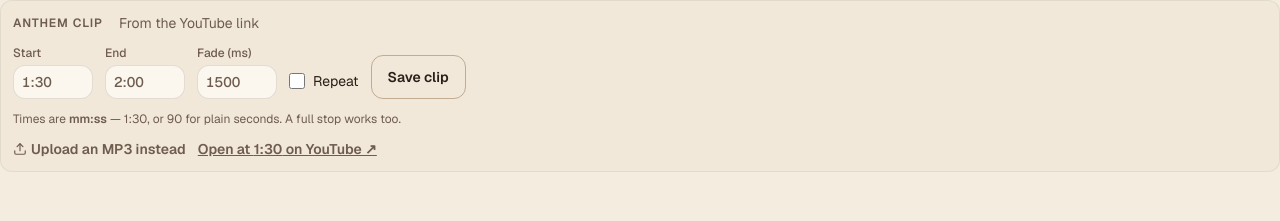
Test case: SongClipEditor › refuses an end before the start
Replace the text in the field labelled "End" with "1:00" at (145, 82), box [105,65,185,99]
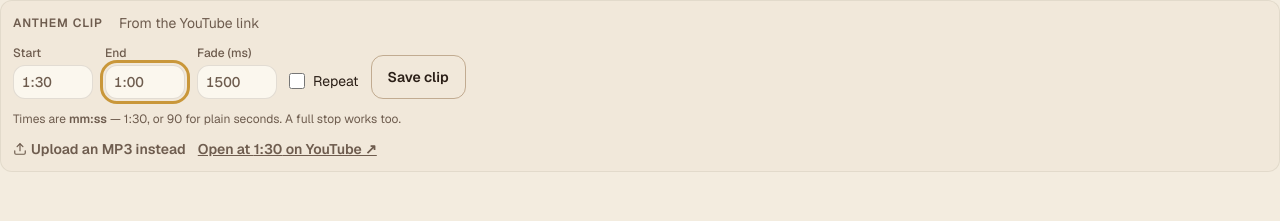
Click the button "Save clip" at (418, 77), box [371,55,466,99]
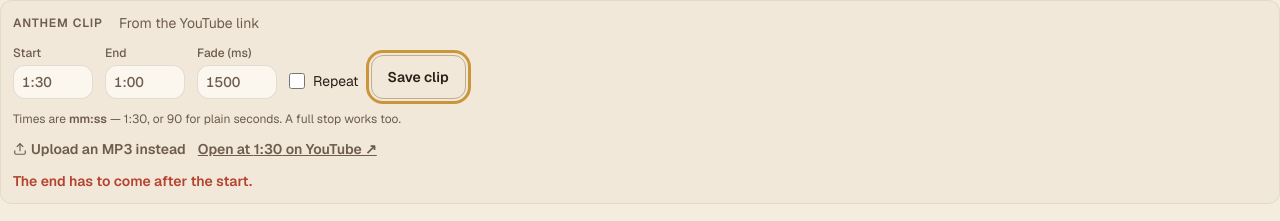
Result: the message shows "after the start" at [13,172,252,190]
